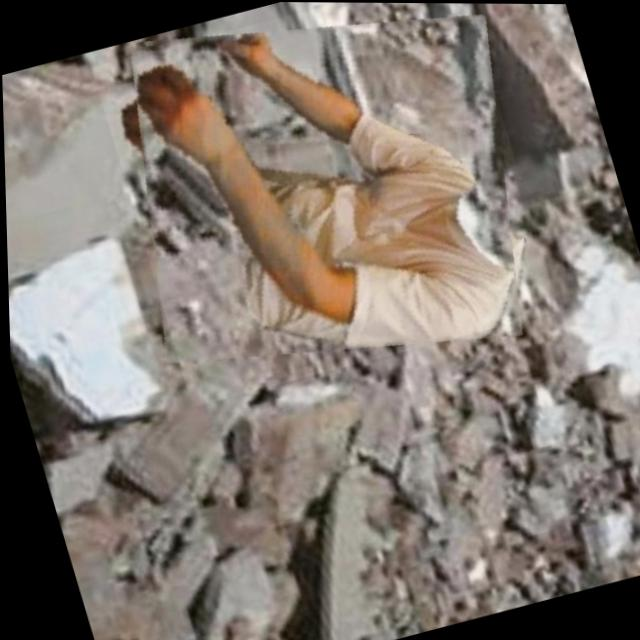Person in Rubble: (88, 1, 558, 408)
